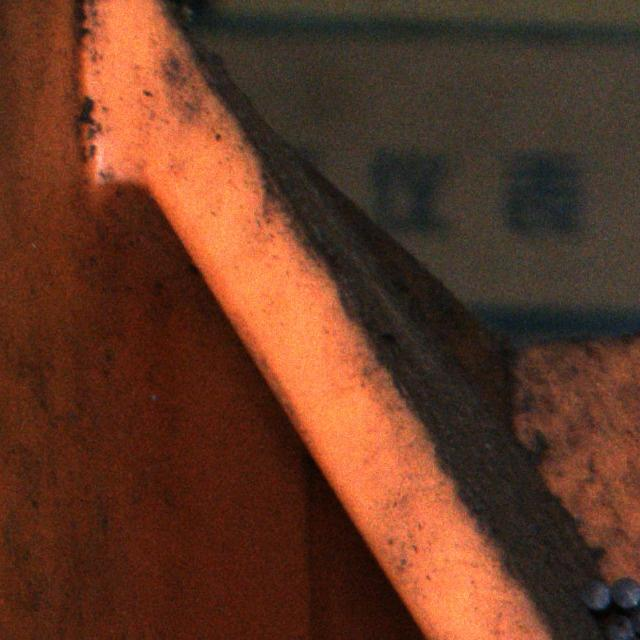tool: (579, 578, 611, 610), (598, 612, 632, 640), (612, 577, 640, 606)
